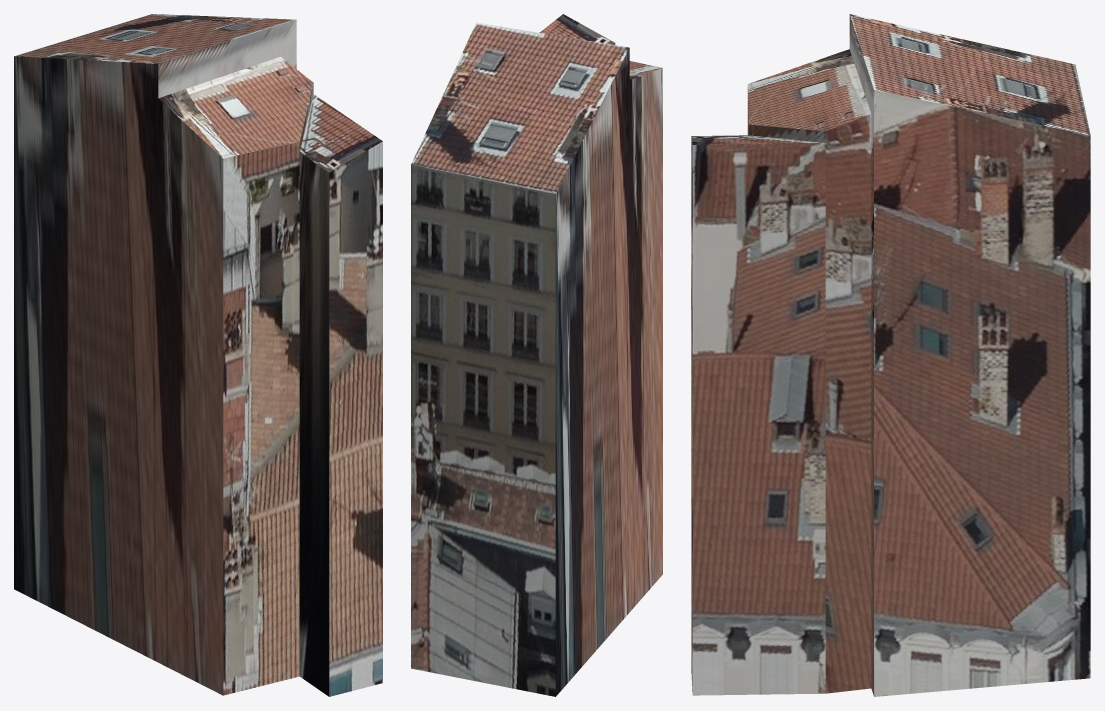
The picture shows the model from 3 angles, left to right: view 1: azimuth 30°, elevation 25°; view 2: azimuth 150°, elevation 25°; view 3: azimuth 270°, elevation 25°; orthographic projection. The views are drawn at different scales.
Visible parts, largest first — view 1: Z_UP; view 2: Z_UP; view 3: Z_UP.
Boxes of the visible parts, x1,y1,x2,y2 form: Z_UP: (14, 14, 382, 696); Z_UP: (411, 14, 662, 696); Z_UP: (691, 14, 1090, 696).
Size of the model in its own units: 8.3 by 25.9 by 15.42.
2 materials, 1 textured.
